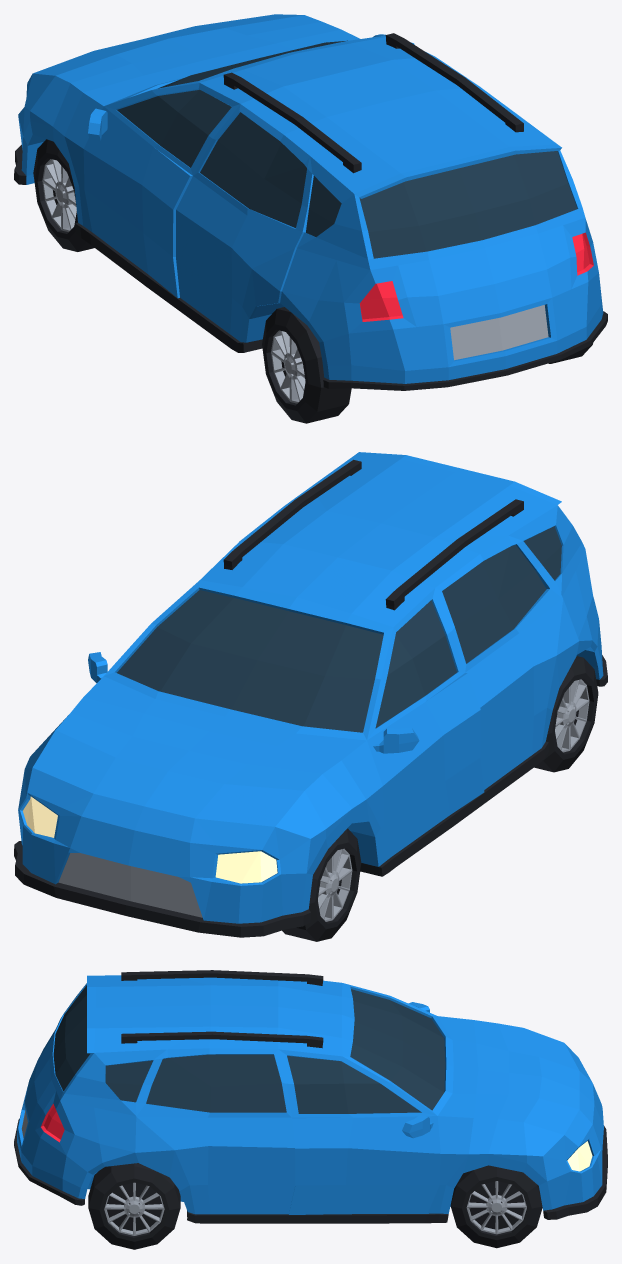
File: suv.glb
3 views of the same model, one above another, from view 1: azimuth 30°, elevation 25°; view 2: azimuth 150°, elevation 25°; view 3: azimuth 270°, elevation 25° (orthographic). The views are drawn at different scales.
Visible parts, largest first — view 1: SUV_Cube (×5), SUV_BackWheels_Cylinder.009 (×2), SUV_FrontLeftWheel_Cylinder.010 (×2); view 2: SUV_Cube (×5), SUV_FrontLeftWheel_Cylinder.010 (×2), SUV_BackWheels_Cylinder.009 (×2); view 3: SUV_Cube (×5), SUV_BackWheels_Cylinder.009 (×2), SUV_FrontRightWheel_Cylinder.005 (×2).
Part boxes in pixels (x1,y1,x2,y2): SUV_Cube (×5): (14, 14, 607, 390); SUV_BackWheels_Cylinder.009 (×2): (262, 307, 592, 423); SUV_FrontLeftWheel_Cylinder.010 (×2): (33, 139, 94, 251); SUV_Cube (×5): (14, 452, 607, 937); SUV_FrontLeftWheel_Cylinder.010 (×2): (282, 828, 361, 941); SUV_BackWheels_Cylinder.009 (×2): (534, 656, 598, 772); SUV_Cube (×5): (14, 970, 607, 1223); SUV_BackWheels_Cylinder.009 (×2): (88, 1163, 180, 1249); SUV_FrontRightWheel_Cylinder.005 (×2): (450, 1165, 542, 1248).
Size of the model in its own units: 2.36 by 1.71 by 4.7.
